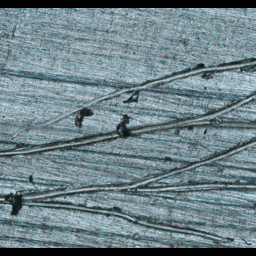d: (0, 47, 255, 246)
